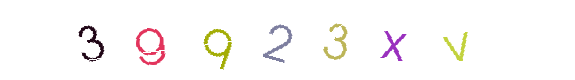2: (215, 0, 295, 80)
3: (52, 0, 132, 80), (248, 0, 328, 80)
G: (111, 0, 191, 80)
Q: (178, 0, 258, 80)
V: (327, 0, 407, 80)
X: (273, 0, 353, 80)
